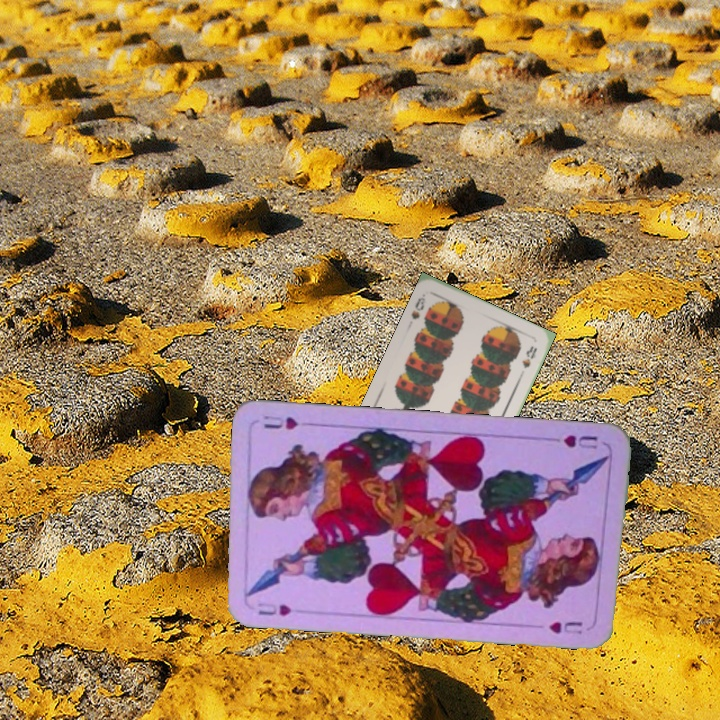HU: (252, 594, 295, 618), (559, 431, 600, 452)
S8: (407, 290, 428, 322)
